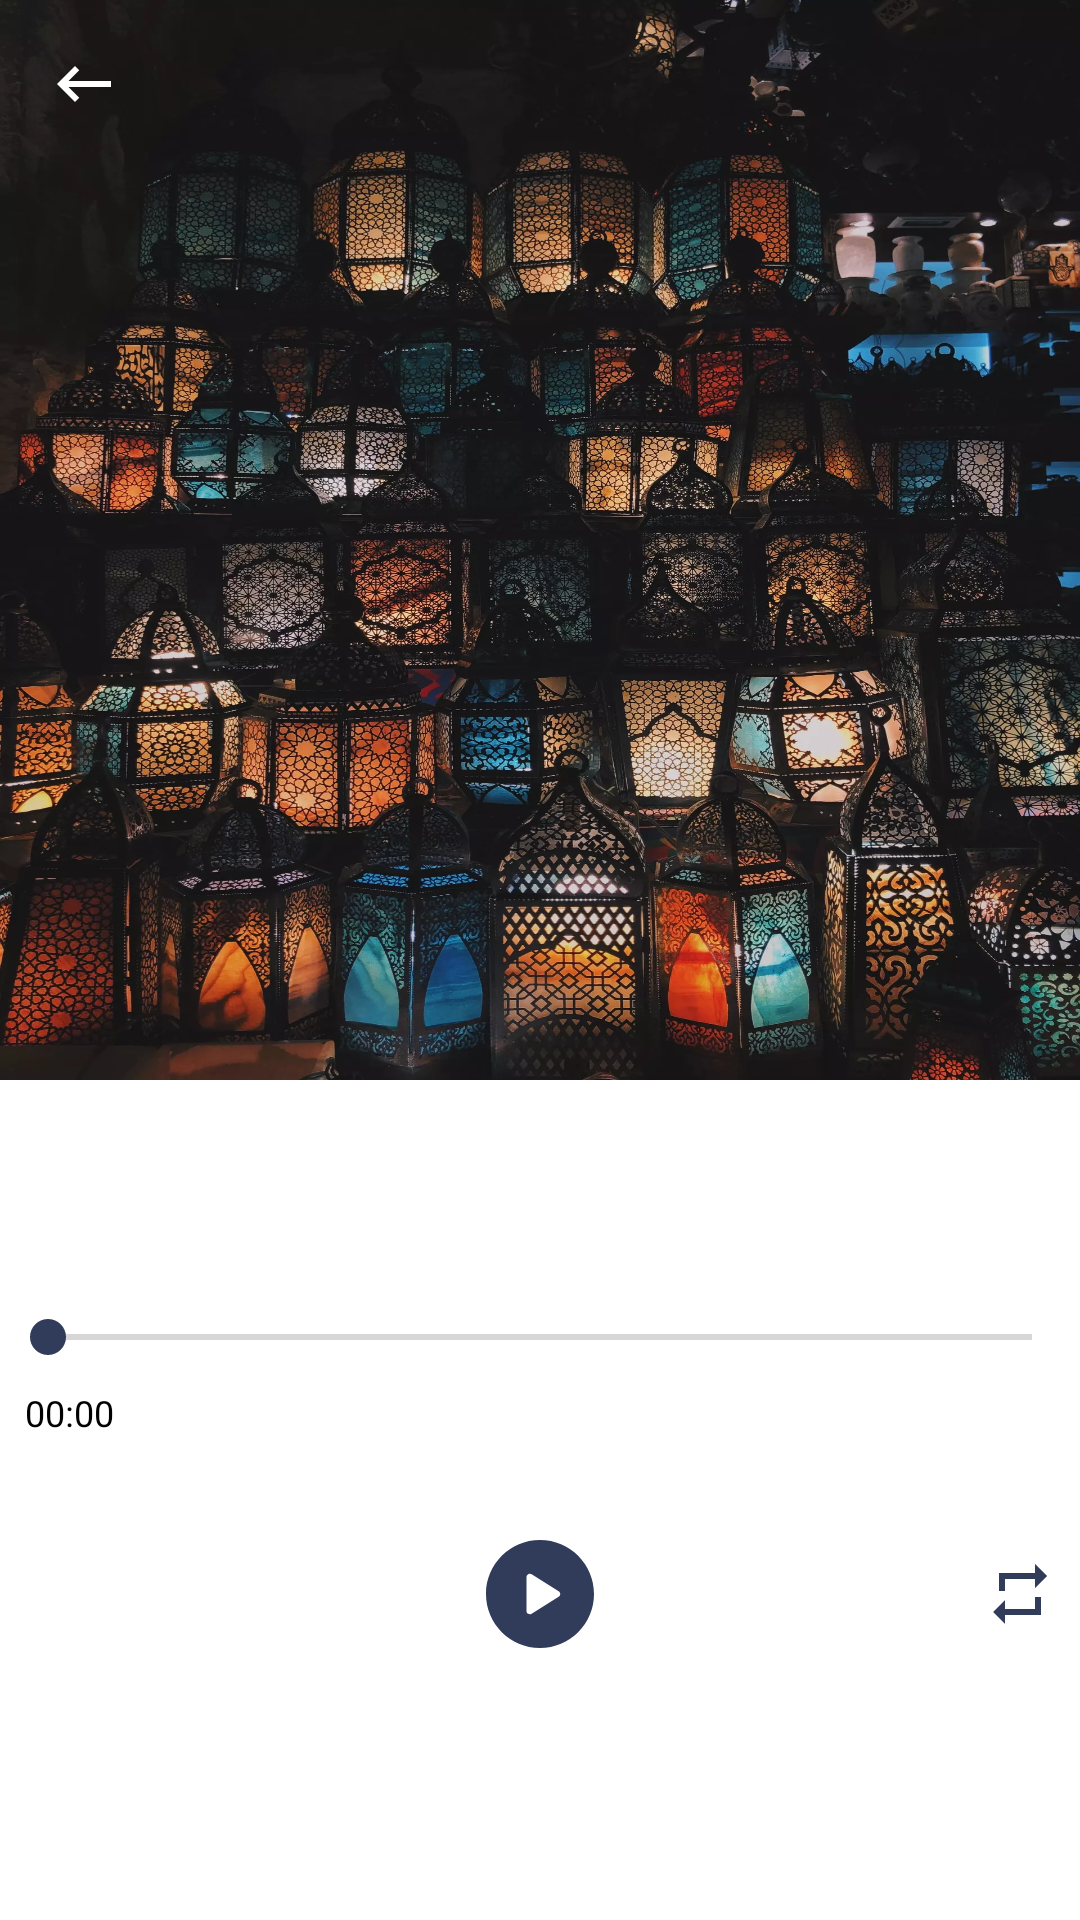

Screen size 1080w x 1920h. Icon name, then its center in pixels as (x,y):
back: (84,84)
play: (540,1594)
repeat: (1020,1594)
